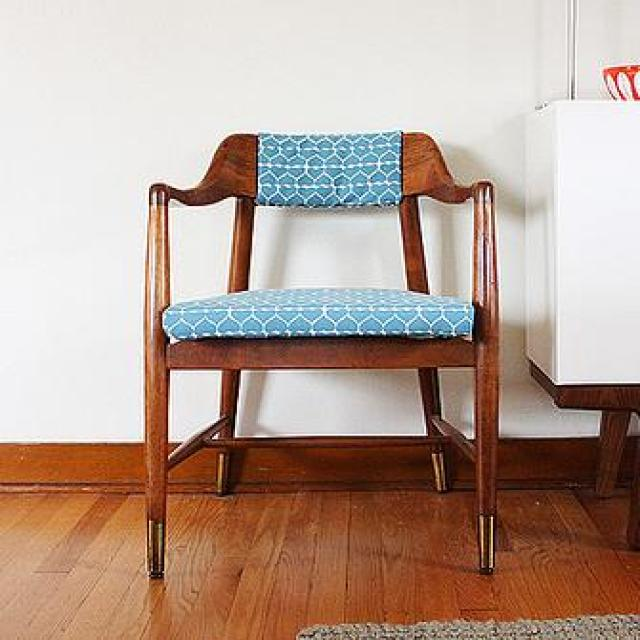chair: (142, 128, 500, 578)
